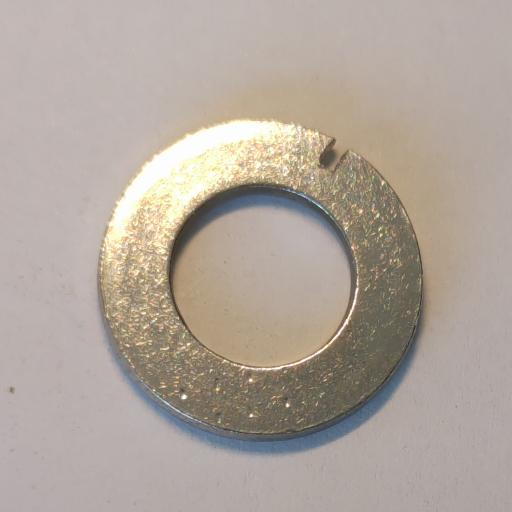burr: (317, 137, 352, 175)
